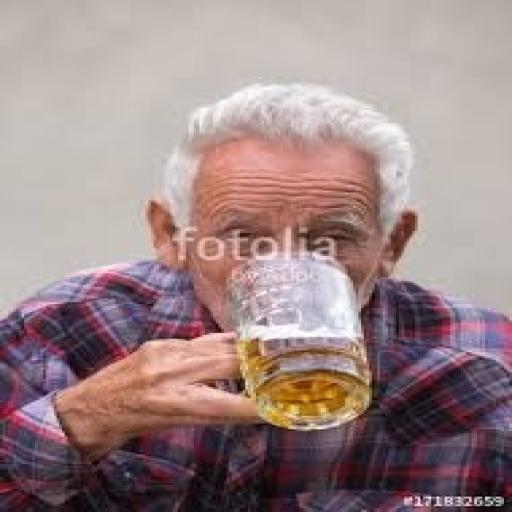drinking: (224, 250, 374, 431)
